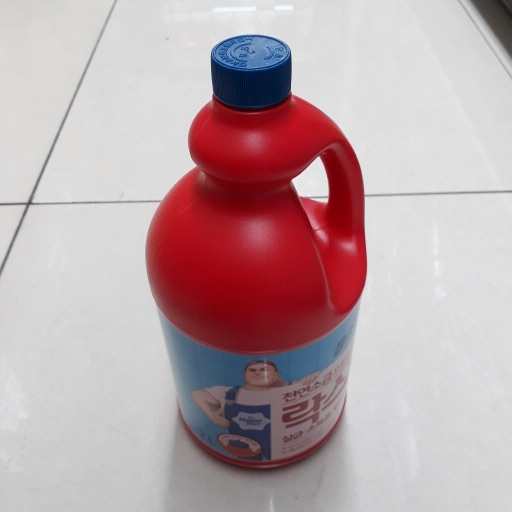Plastic_1: (146, 36, 370, 476)
